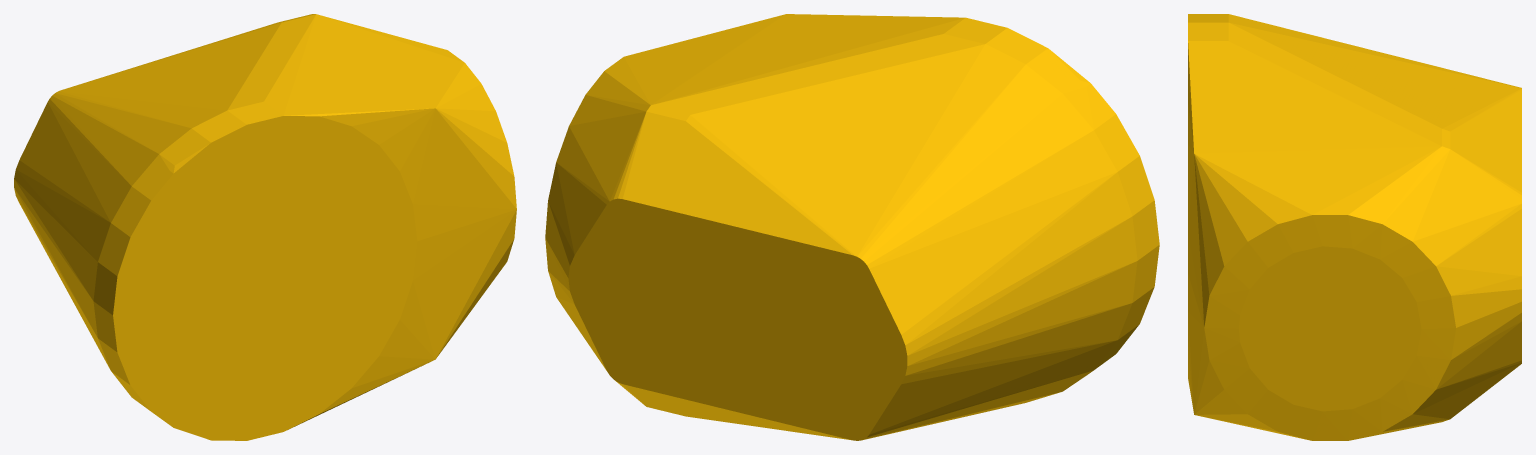
The picture shows the model from 3 angles, left to right: view 1: azimuth 30°, elevation 25°; view 2: azimuth 150°, elevation 25°; view 3: azimuth 270°, elevation 25°; orthographic projection. The views are drawn at different scales.
Visible parts, largest first — view 1: Link 5; view 2: Link 5; view 3: Link 5.
Part boxes in pixels (left/top/right/bottom): Link 5: left=14, top=14, right=516, bottom=440; Link 5: left=545, top=14, right=1159, bottom=440; Link 5: left=1188, top=14, right=1521, bottom=440.
Bounding box in the file's own units: 0.2445 × 0.1644 × 0.1787.
